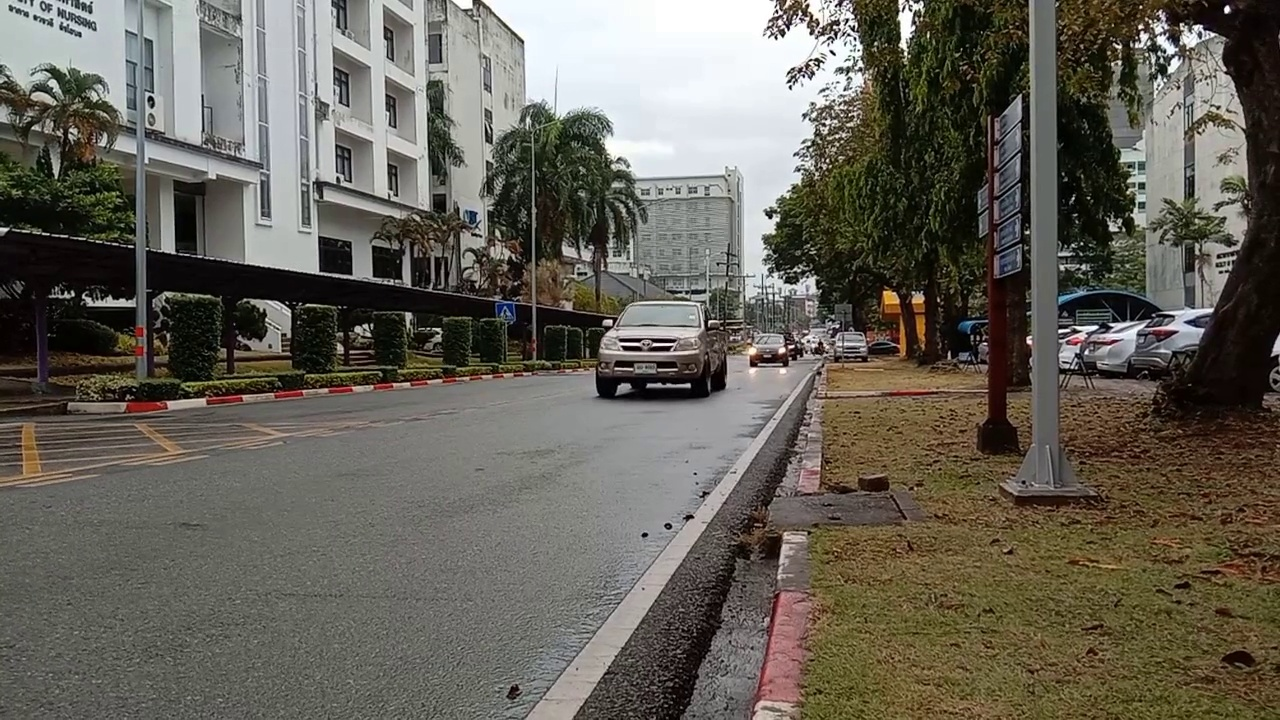License Plate: (634, 360, 655, 375)
